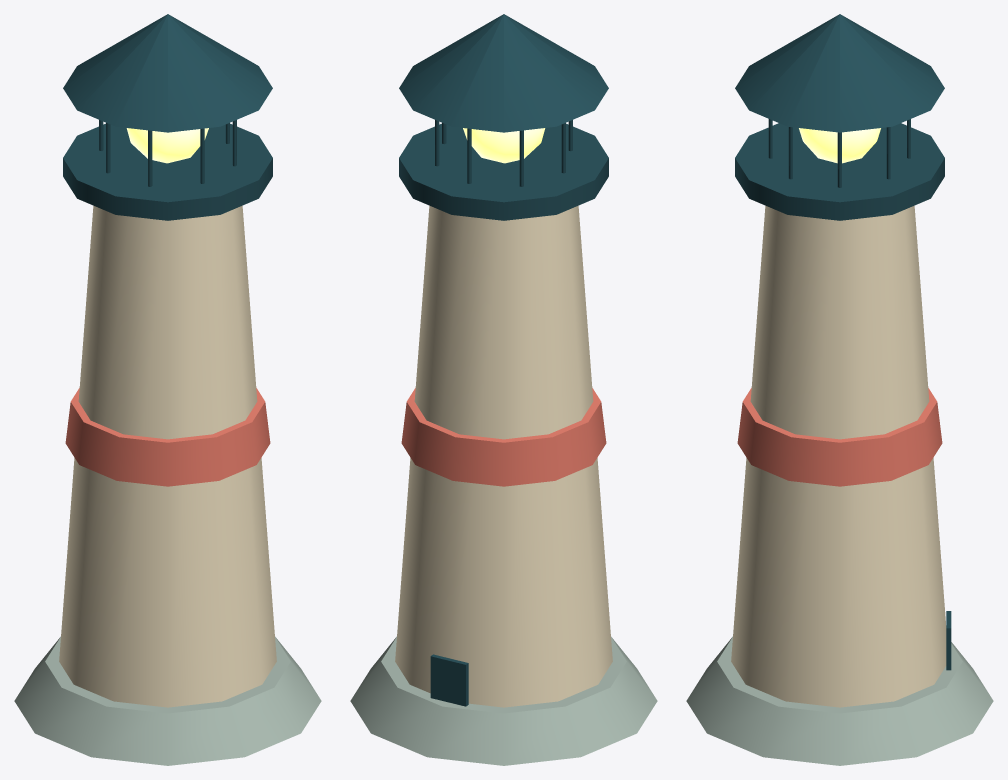
Rendered from lighthouse-restored.glb.
3 views of the same model, side by side, from view 1: azimuth 30°, elevation 25°; view 2: azimuth 150°, elevation 25°; view 3: azimuth 270°, elevation 25° (orthographic).
Visible parts, largest first — view 1: lighthouse-tower, tower-foundation, lantern-roof, lantern-balcony, tower-band, keeper-lens; view 2: lighthouse-tower, tower-foundation, lantern-roof, lantern-balcony, tower-band, keeper-lens, lighthouse-door; view 3: lighthouse-tower, tower-foundation, lantern-roof, lantern-balcony, tower-band, keeper-lens.
Boxes of the visible parts, x1=… form: lighthouse-tower: x1=59, y1=205, x2=276, y2=707; tower-foundation: x1=14, y1=636, x2=321, y2=765; lantern-roof: x1=63, y1=14, x2=272, y2=132; lantern-balcony: x1=63, y1=123, x2=272, y2=220; tower-band: x1=65, y1=388, x2=270, y2=486; keeper-lens: x1=126, y1=128, x2=208, y2=163; lighthouse-tower: x1=395, y1=205, x2=612, y2=707; tower-foundation: x1=350, y1=636, x2=657, y2=765; lantern-roof: x1=399, y1=14, x2=608, y2=132; lantern-balcony: x1=399, y1=123, x2=608, y2=220; tower-band: x1=401, y1=388, x2=606, y2=486; keeper-lens: x1=463, y1=128, x2=545, y2=163; lighthouse-door: x1=430, y1=654, x2=468, y2=706; lighthouse-tower: x1=731, y1=205, x2=946, y2=707; tower-foundation: x1=686, y1=636, x2=993, y2=765; lantern-roof: x1=735, y1=14, x2=944, y2=132; lantern-balcony: x1=735, y1=123, x2=944, y2=220; tower-band: x1=737, y1=388, x2=942, y2=486; keeper-lens: x1=799, y1=128, x2=880, y2=163.
Bounding box in the file's own units: 12 × 29.6 × 12.
